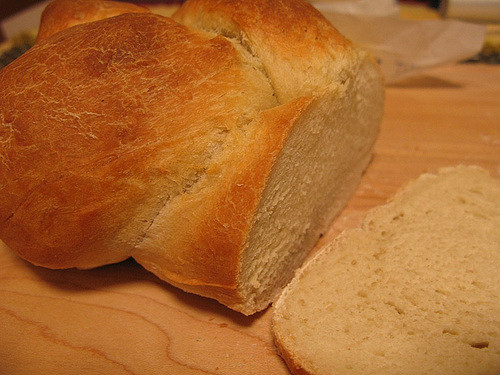slice of bread: (8, 7, 382, 326), (275, 140, 500, 372)
